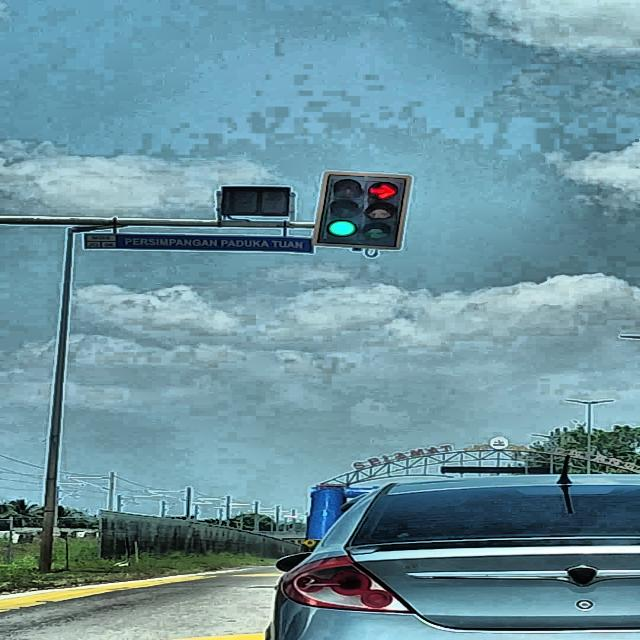green: (316, 173, 368, 246)
red: (358, 175, 412, 252)
